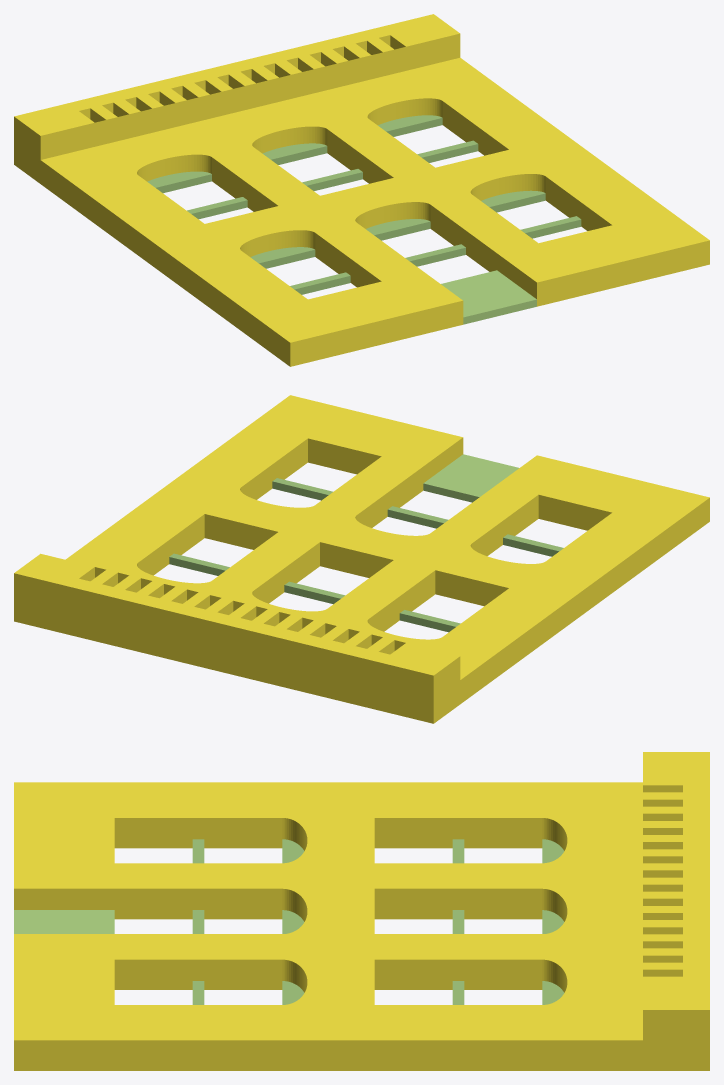
File: openscad_modular-building-facade.glb
The picture shows the model from 3 angles, top to bottom: view 1: azimuth 30°, elevation 25°; view 2: azimuth 150°, elevation 25°; view 3: azimuth 270°, elevation 25°; orthographic projection. The views are drawn at different scales.
Visible parts, largest first — view 1: object; view 2: object; view 3: object.
Boxes of the visible parts, x1,y1,x2,y2 form: object: [14, 14, 709, 366]; object: [14, 395, 709, 723]; object: [14, 752, 709, 1070].
Size of the model in its own units: 36.4 by 4 by 41.5.
